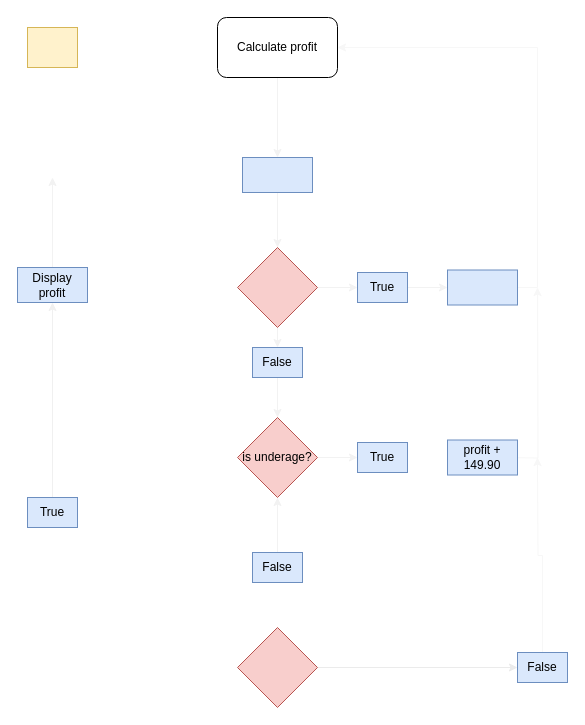
This 585x725 diagram has some shape labels left out. The shapes that lost their labels are listed below. From the top down, each one's centre as x and y in pixels, then its label:
pixel 52 47: Exit
pixel 277 174: profit = 0
pixel 277 287: Is adult?
pixel 482 287: profit + 299.90
pixel 277 667: all seats checked?
